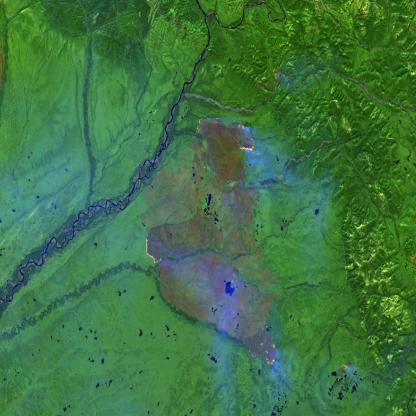fire: (195, 108, 259, 156), (247, 320, 281, 374), (140, 230, 166, 274), (336, 360, 351, 382)
